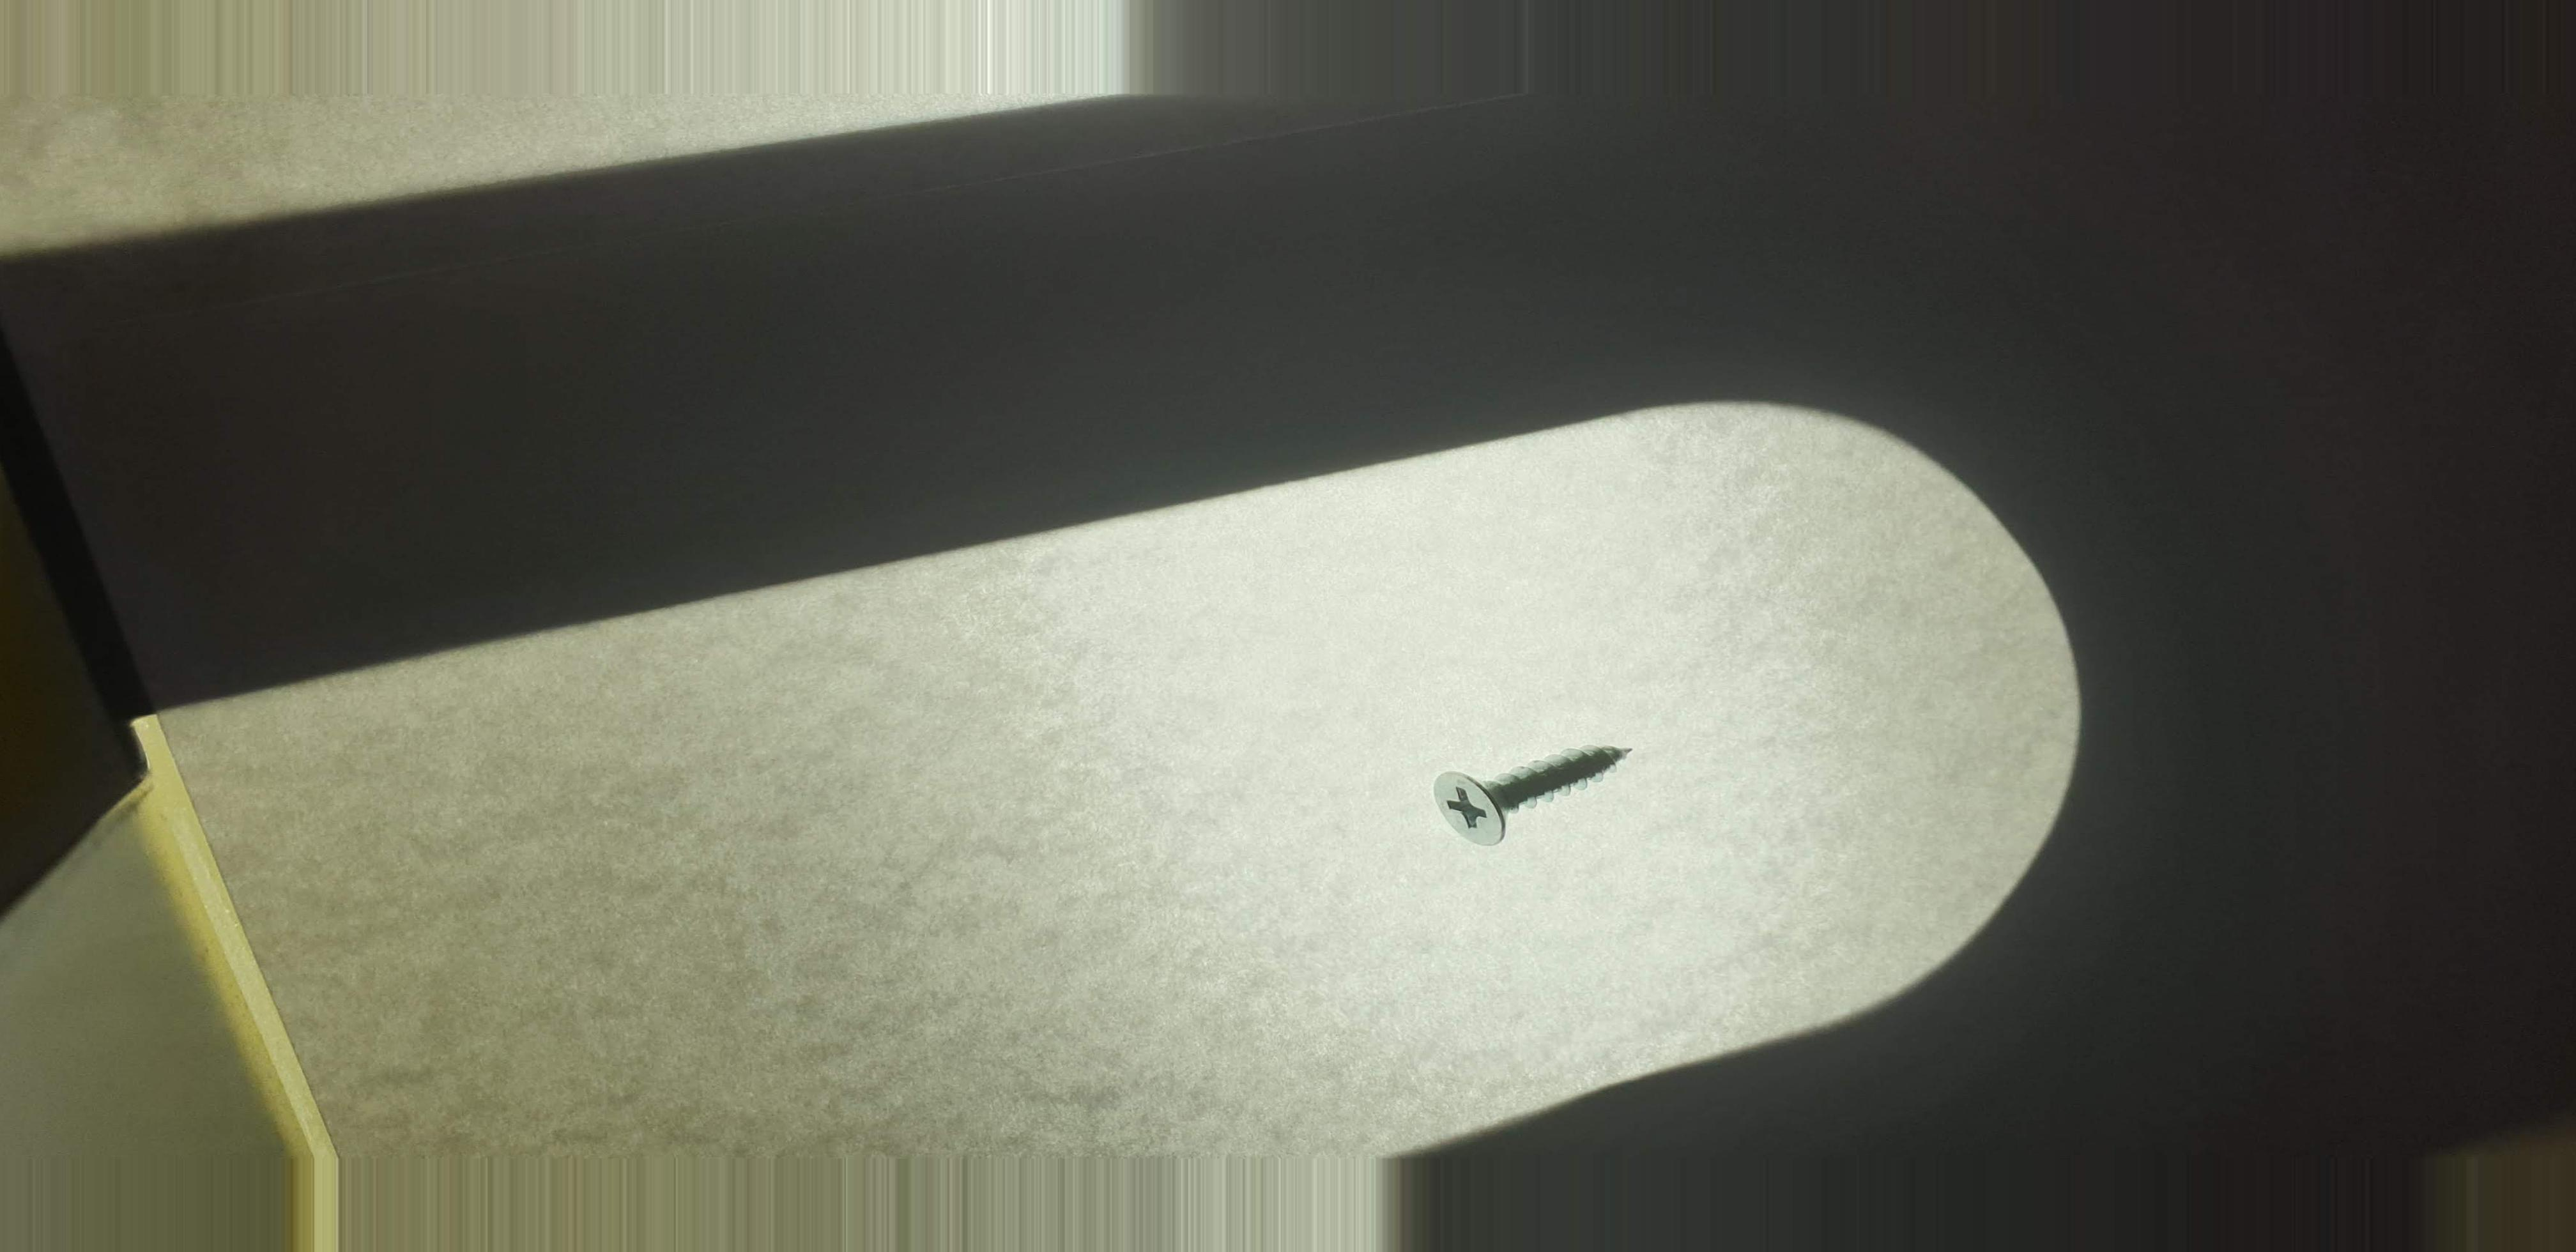S003: (1408, 713, 1666, 871)
